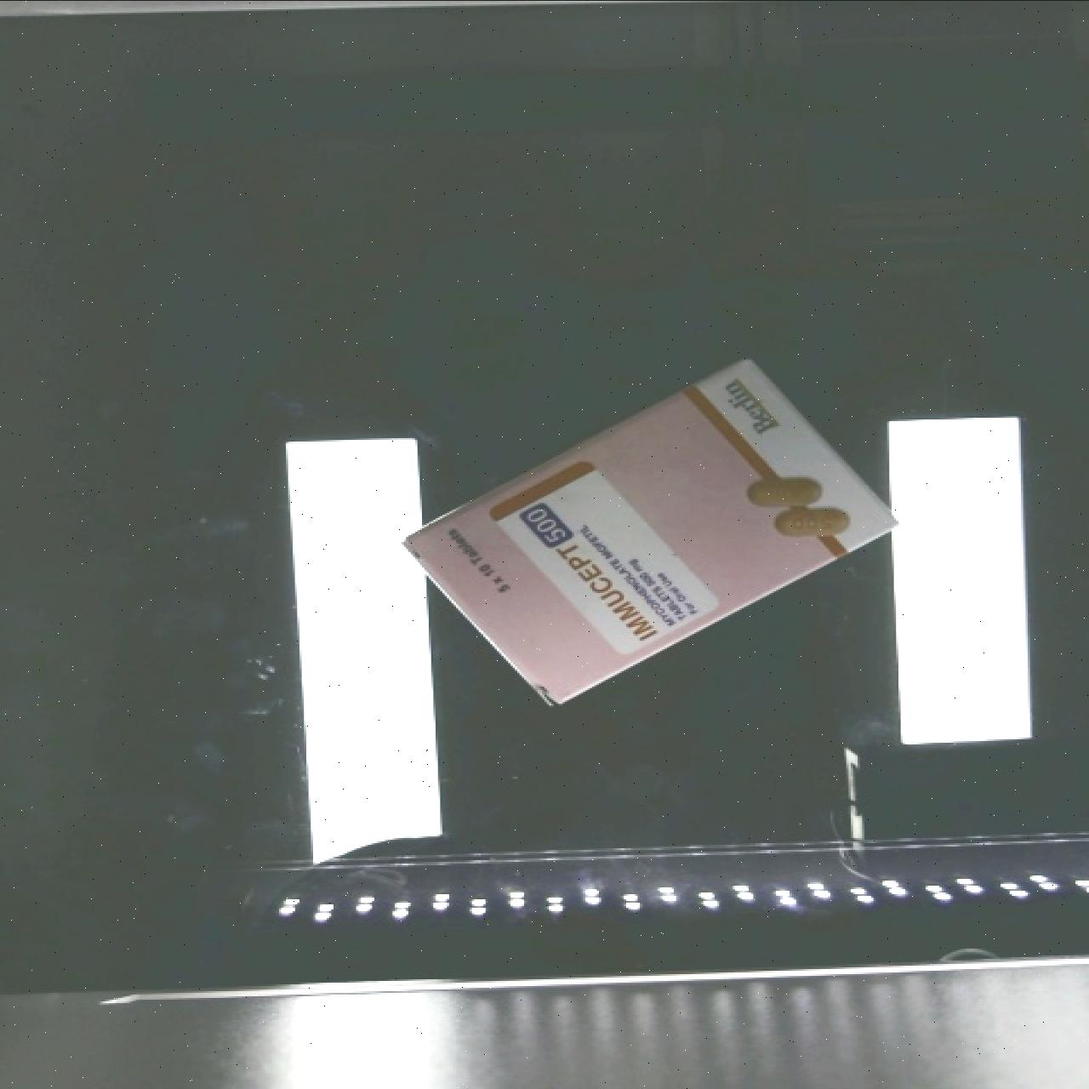medicine_label_obb: (495, 476, 680, 665)
